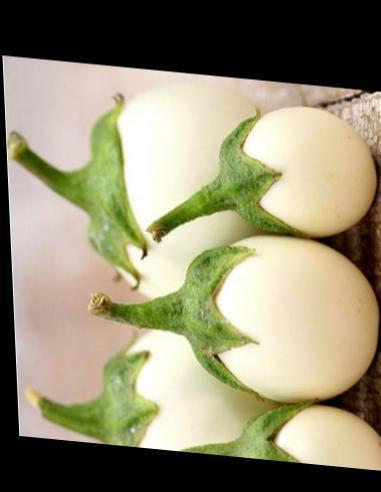eggplant: (30, 73, 380, 465)
